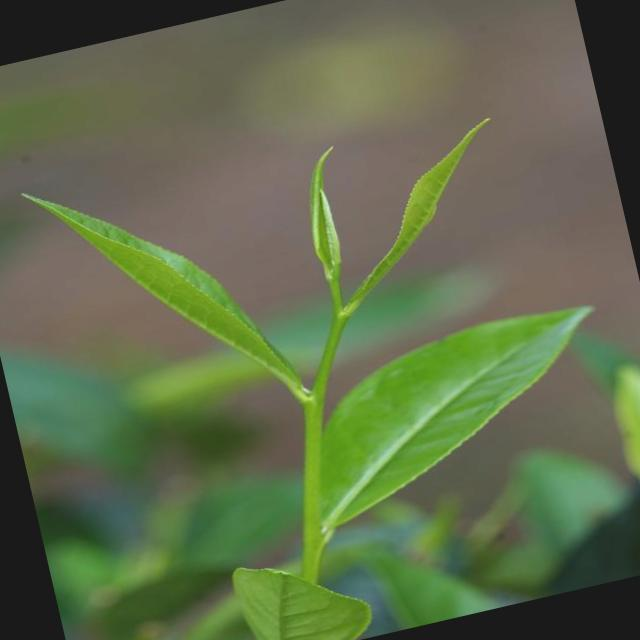Stem: (304, 399, 324, 419)
